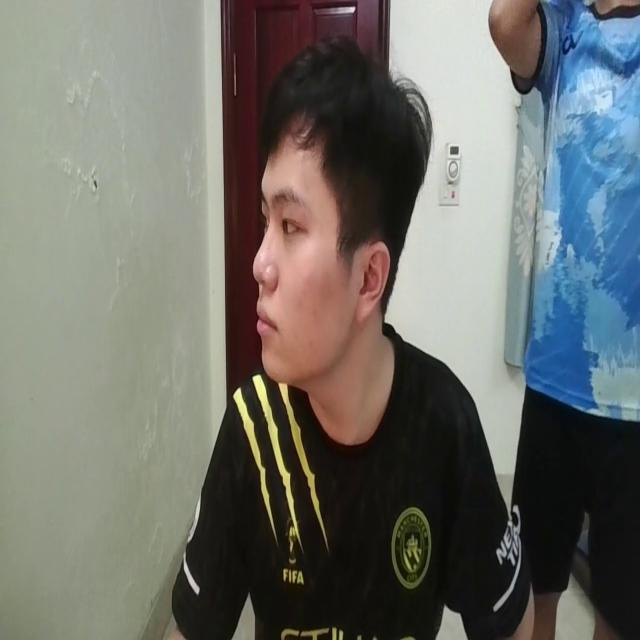extra_person: (486, 0, 640, 640)
student: (149, 34, 533, 640)
